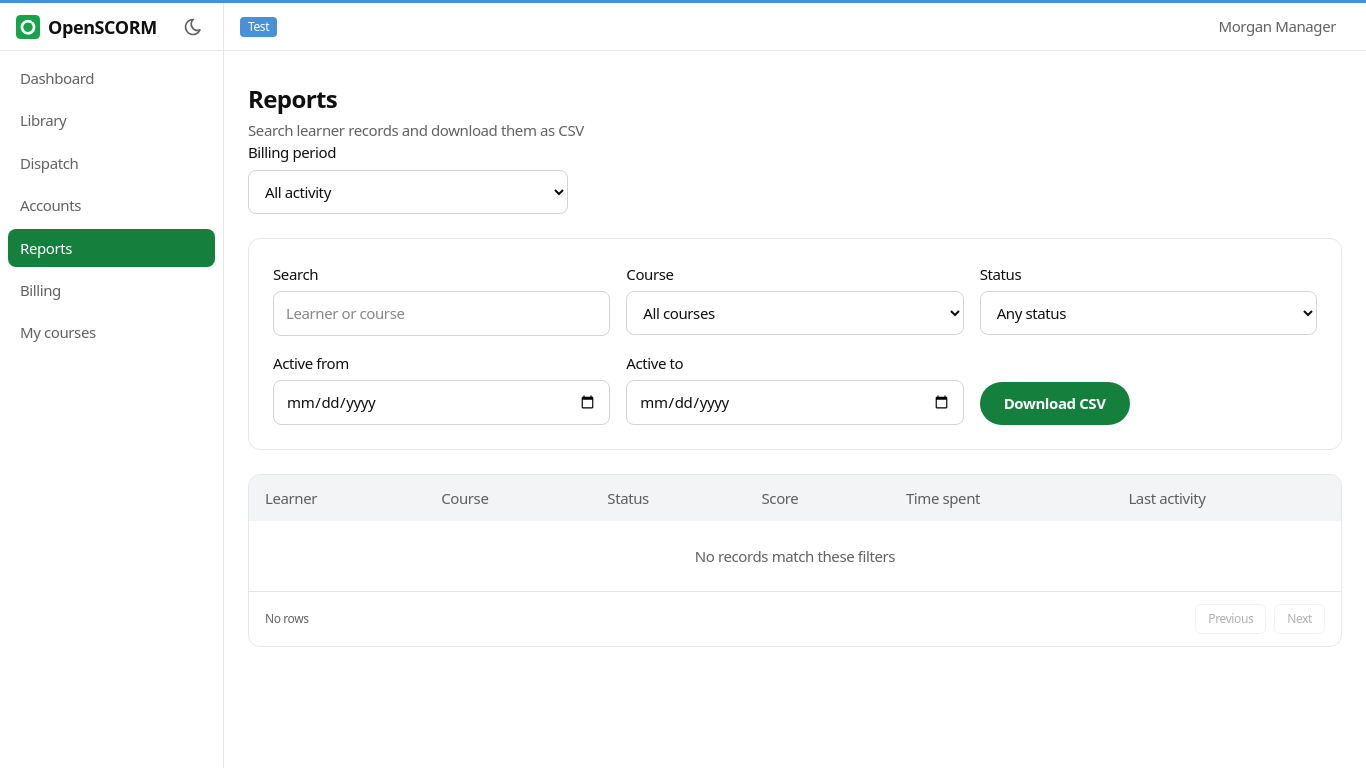
Test case: Reports billing period view › switches from the records list to the period view from the selector
Check: the text "No records match these filters" is shown, box left=249, top=521, right=1341, bottom=591
Select "Previous billing period" in the dropdown labelled "Billing period" at [408, 192], box left=248, top=170, right=568, bottom=214
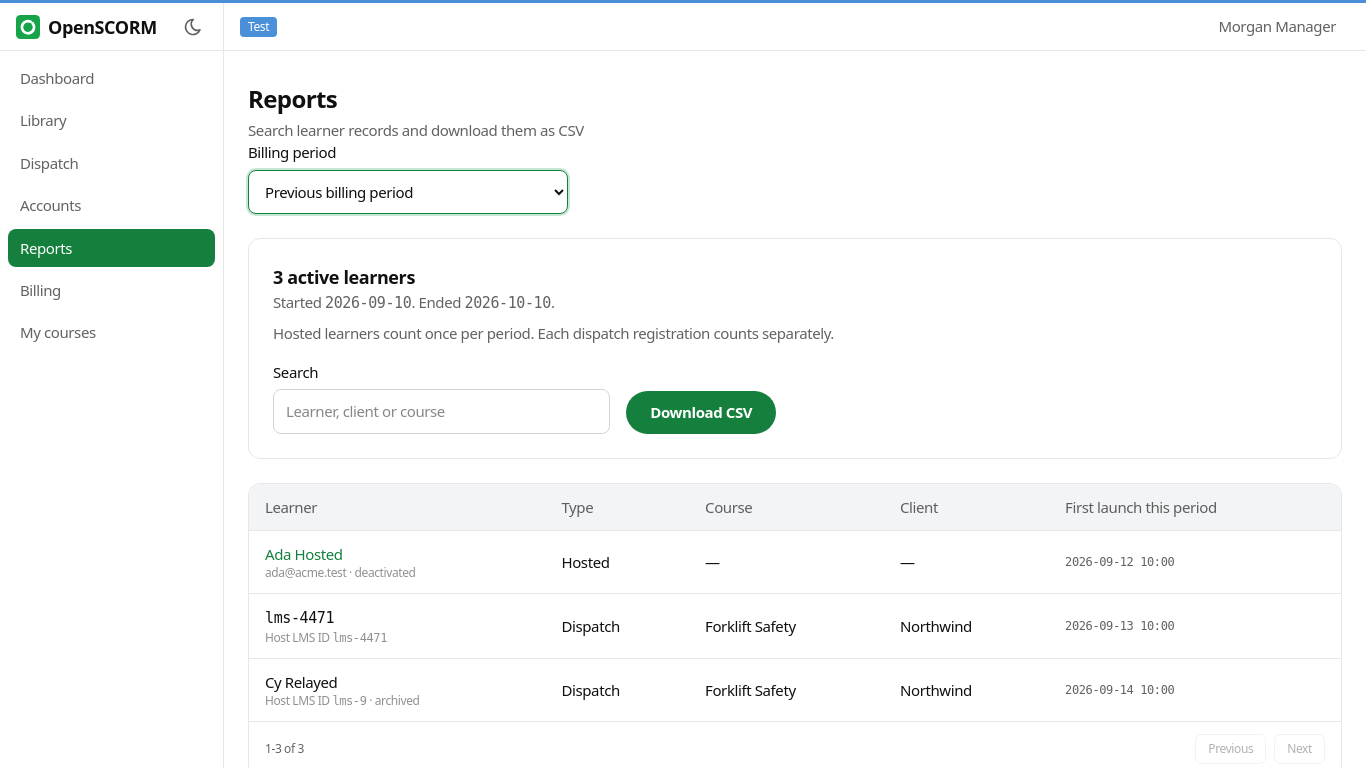
Check: the text "3 active learners" is shown, box left=273, top=265, right=415, bottom=289
Check: the text "Started 2026-09-10. Ended 2026-10-10." is shown, box left=273, top=292, right=554, bottom=312
